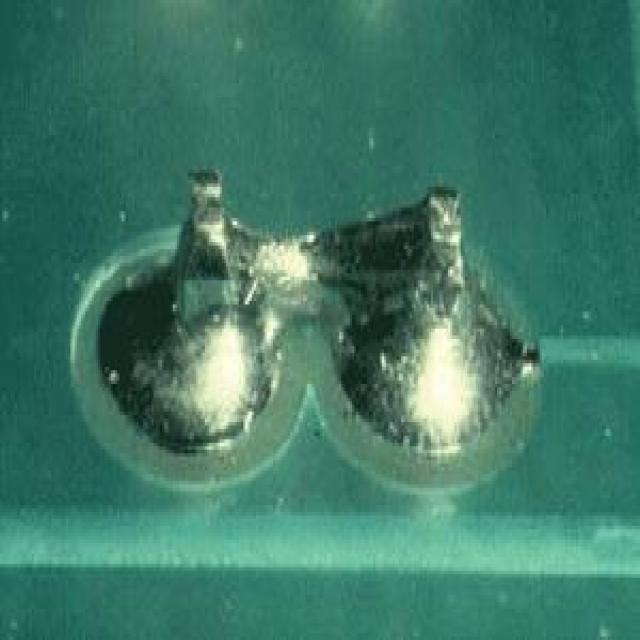Short_circuit: (99, 199, 524, 451)
